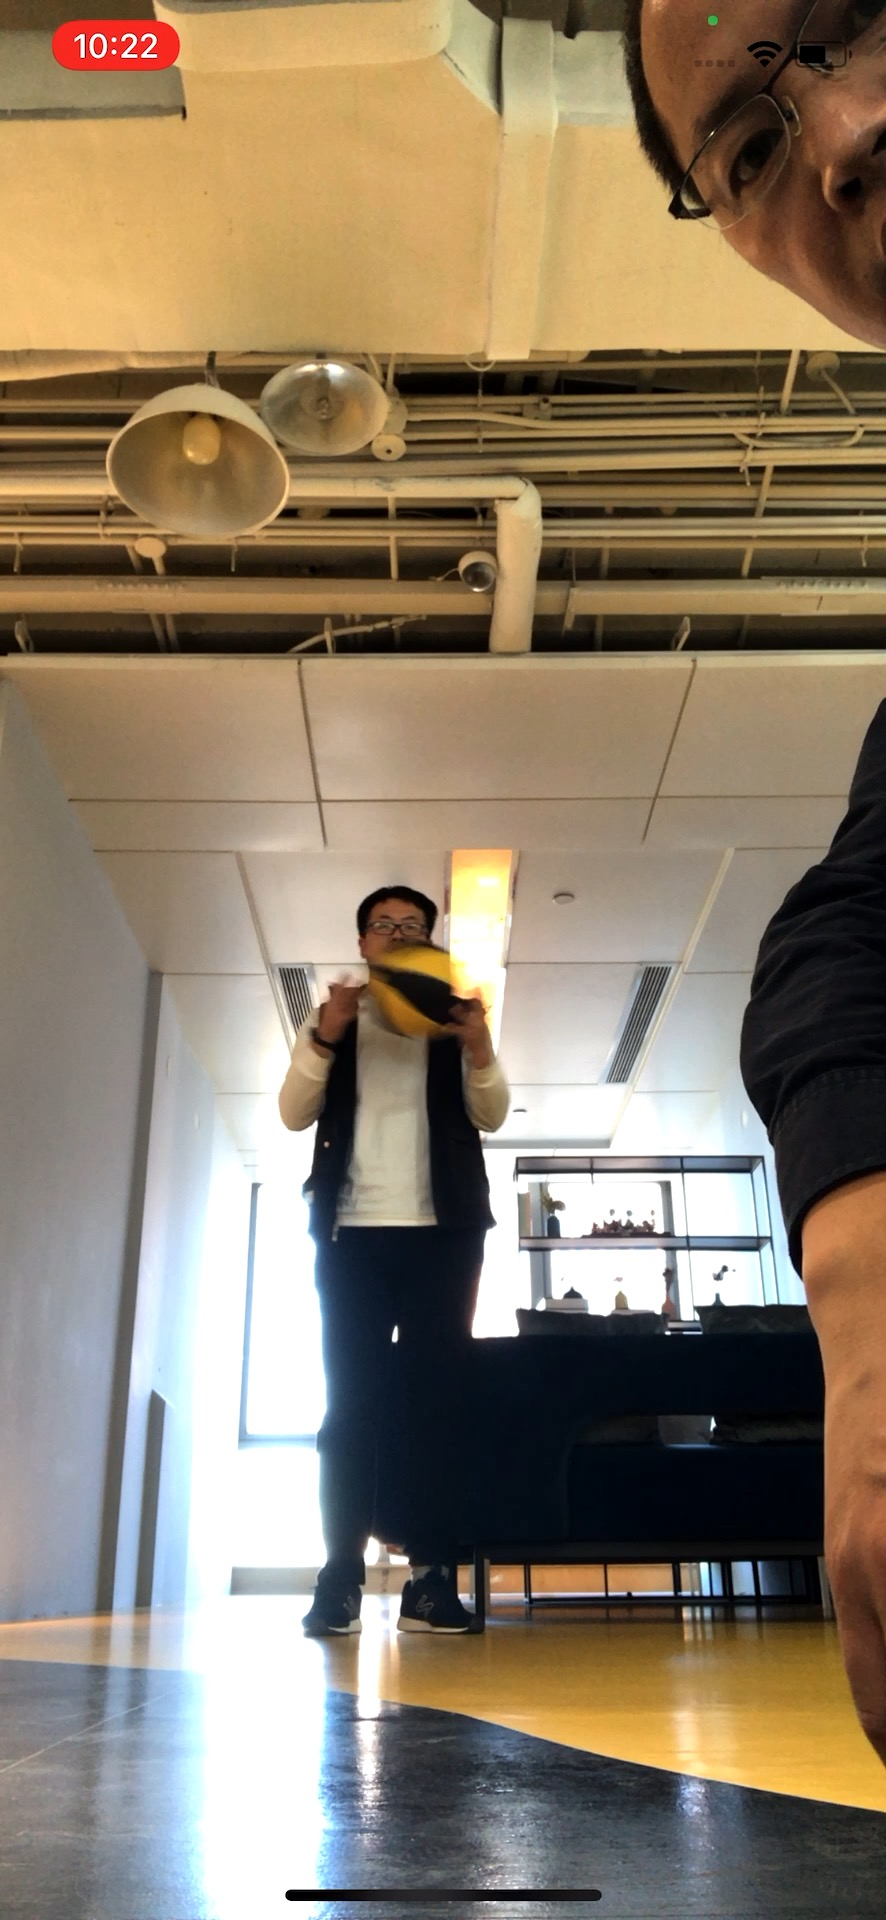ball: (365, 943, 470, 1040)
